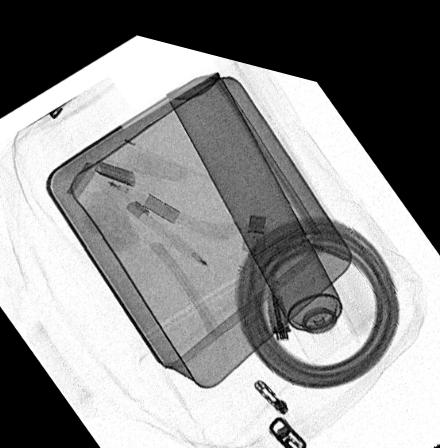Sprayer: (164, 59, 361, 346)
